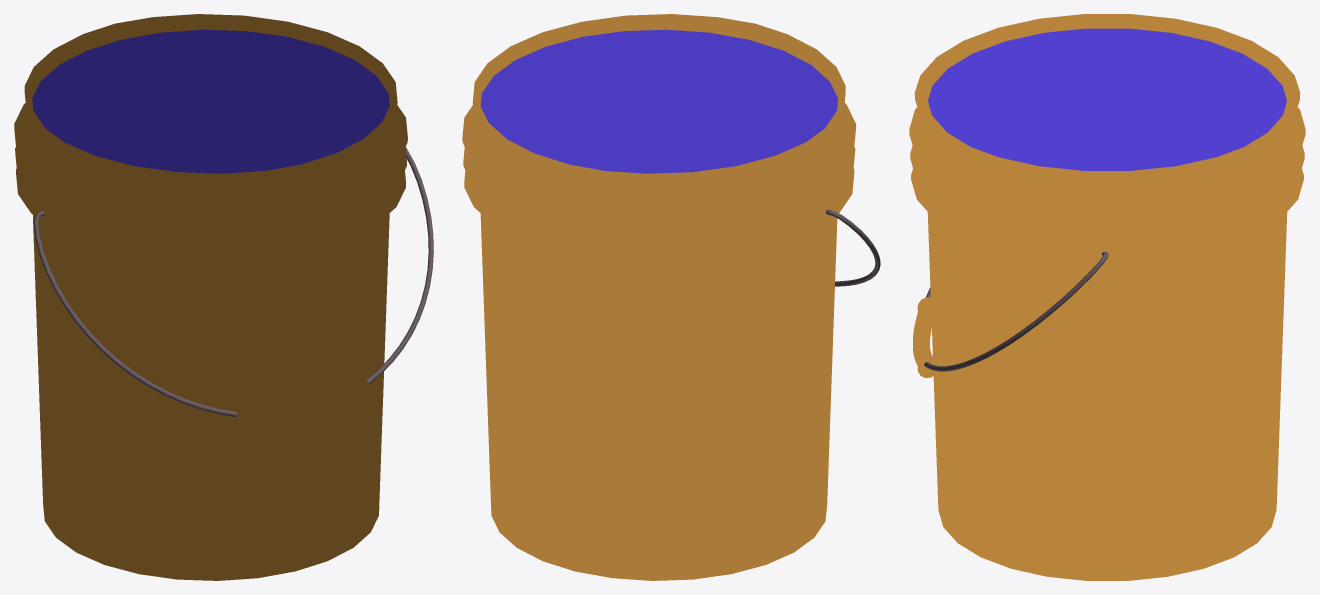
Rendered from bucket.fbx.
3 views of the same model, side by side, from view 1: azimuth 30°, elevation 25°; view 2: azimuth 150°, elevation 25°; view 3: azimuth 270°, elevation 25° (orthographic).
Visible parts, largest first — view 1: Tube01, Torus02, Object01; view 2: Tube01, Torus02; view 3: Tube01, Torus02, Object01.
Boxes of the visible parts, x1=… form: Tube01: x1=14, y1=14, x2=407, y2=580; Torus02: x1=33, y1=147, x2=433, y2=417; Object01: x1=231, y1=376, x2=370, y2=428; Tube01: x1=462, y1=14, x2=856, y2=580; Torus02: x1=826, y1=209, x2=880, y2=286; Tube01: x1=909, y1=14, x2=1305, y2=580; Torus02: x1=924, y1=251, x2=1108, y2=371; Object01: x1=913, y1=297, x2=939, y2=377.
Size of the model in its own units: 610 by 645 by 555.
